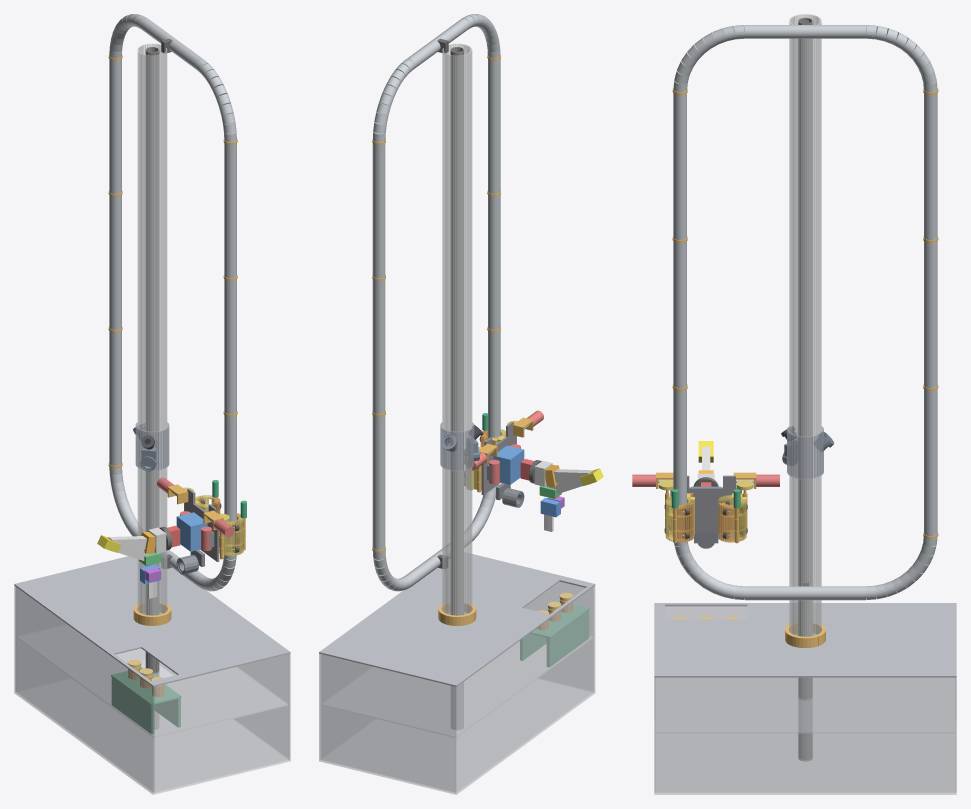
Rendered from transplant-seedling-start-v6.glb.
3 renders of one model, left to right at view 1: azimuth 30°, elevation 25°; view 2: azimuth 150°, elevation 25°; view 3: azimuth 270°, elevation 25°, orthographic. The views are drawn at different scales.
Bounding box in the file's own units: 0.4837 × 1.9 × 0.751.
